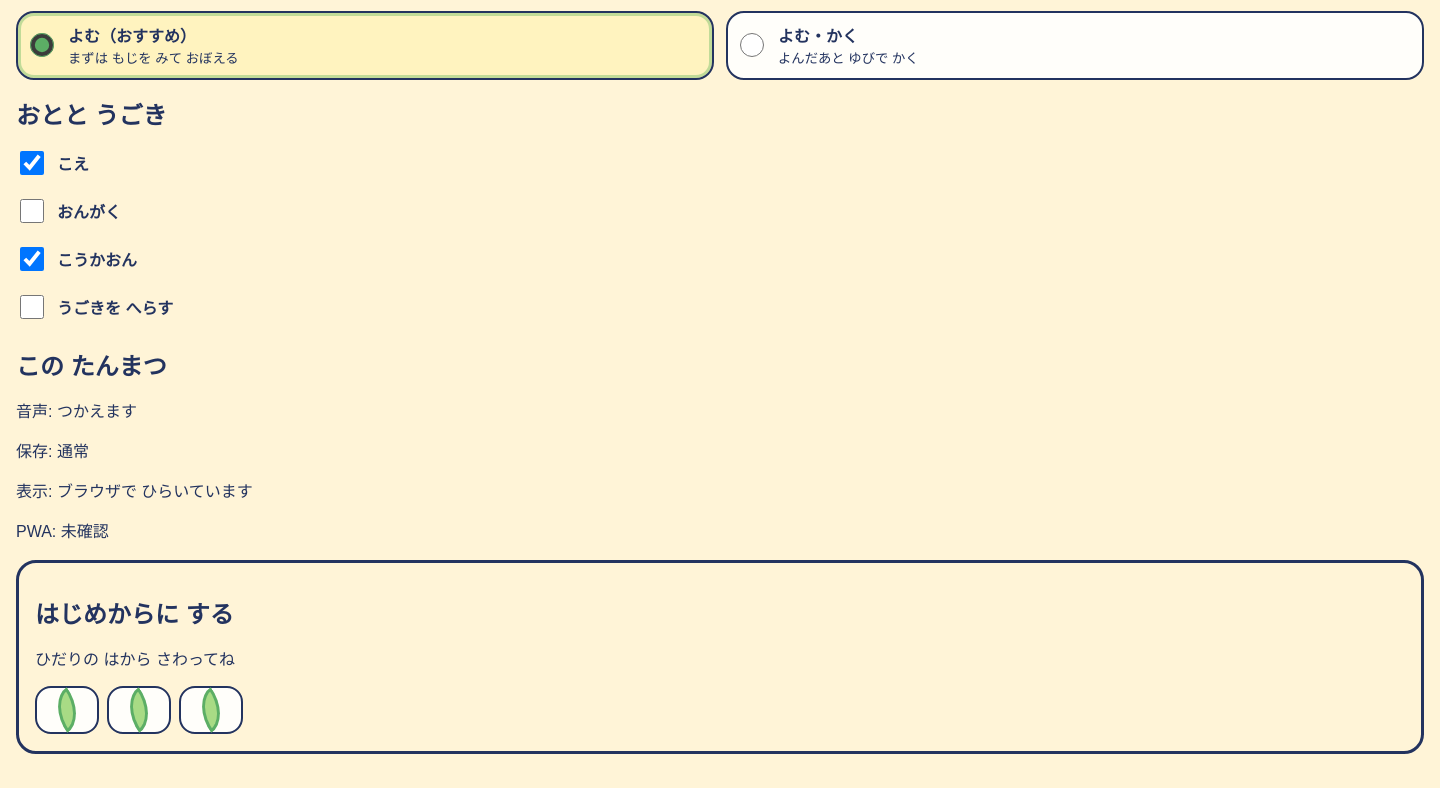
Test: ParentDashboard › StrictModeでもdeferred resetの失敗を表示し、成功後だけ葉を戻す
(page scrolled)
Click the button named "ひだりの は" at {"x": 67, "y": 710}, box [35, 686, 99, 734]
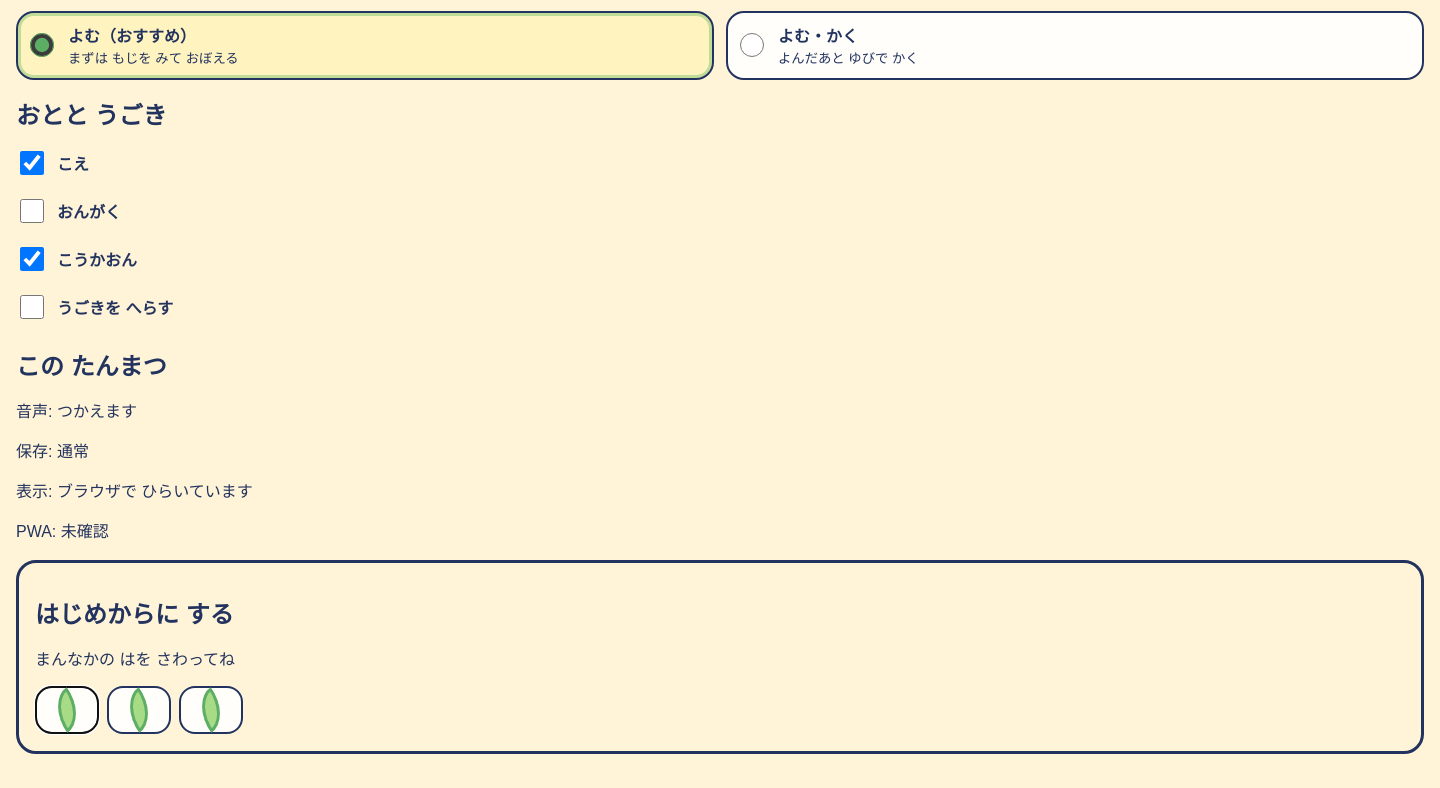
Click the button named "まんなかの は" at {"x": 139, "y": 710}, box [107, 686, 171, 734]
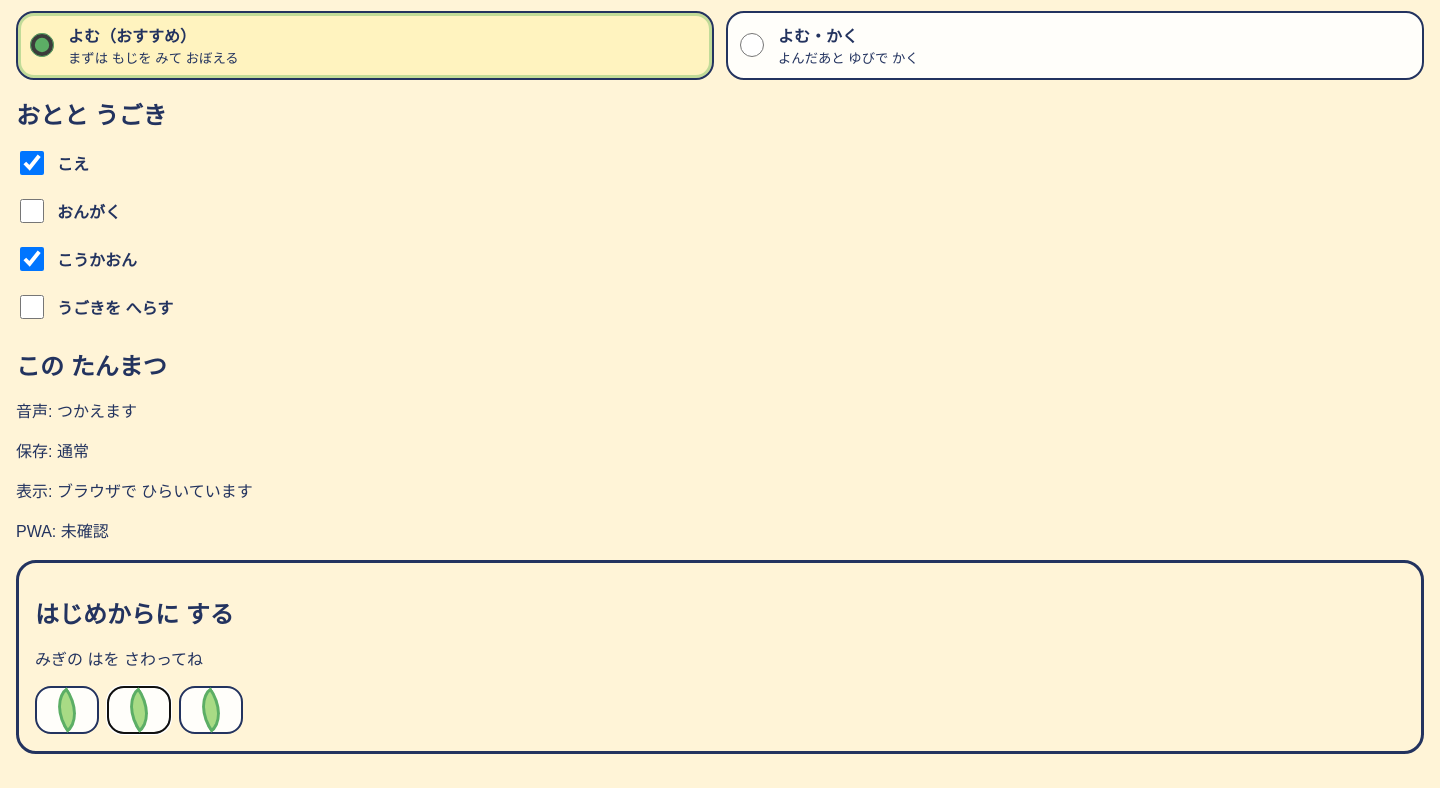
Click the button named "みぎの は" at {"x": 211, "y": 710}, box [179, 686, 243, 734]
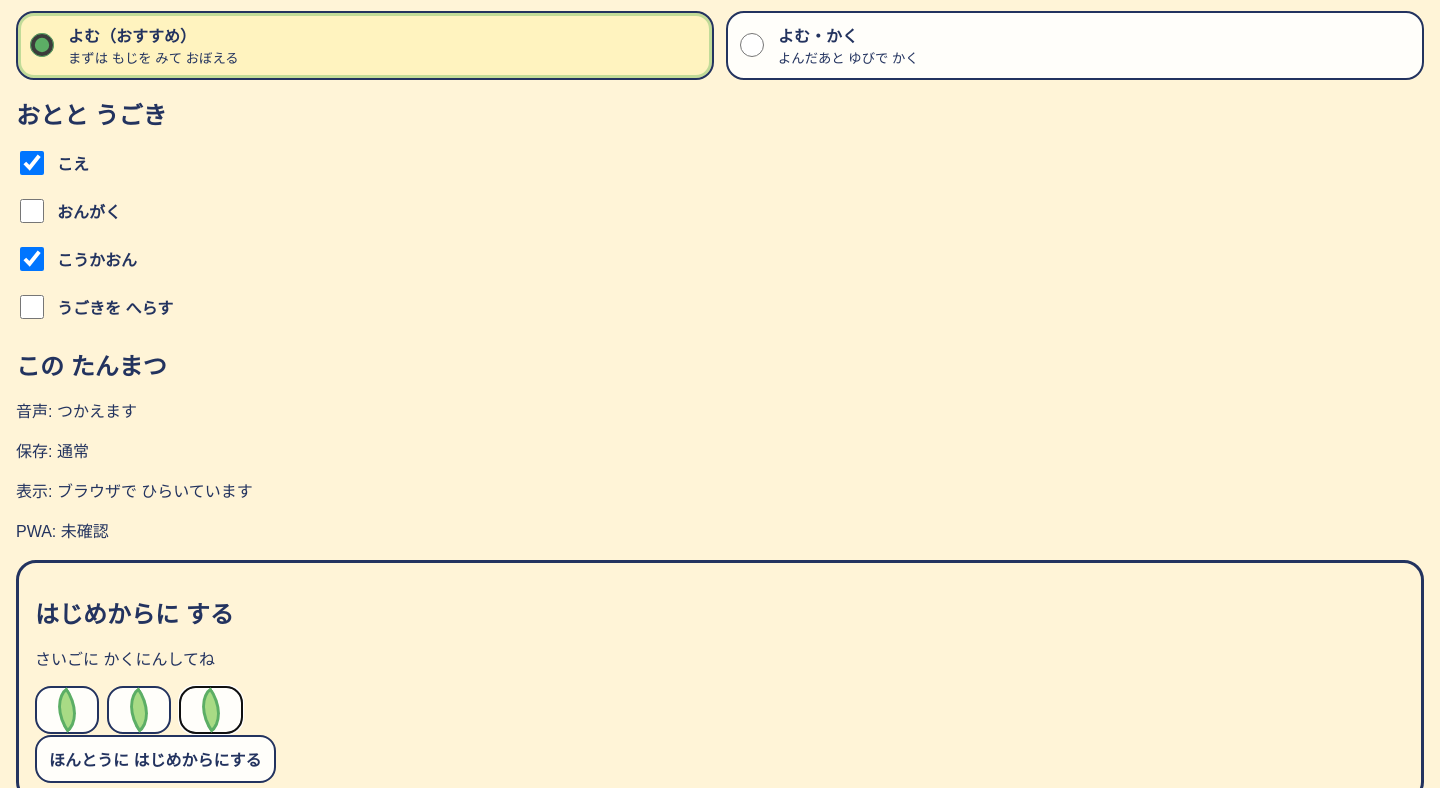
Click the button "ほんとうに はじめからにする" at {"x": 155, "y": 759}, box [35, 735, 276, 783]
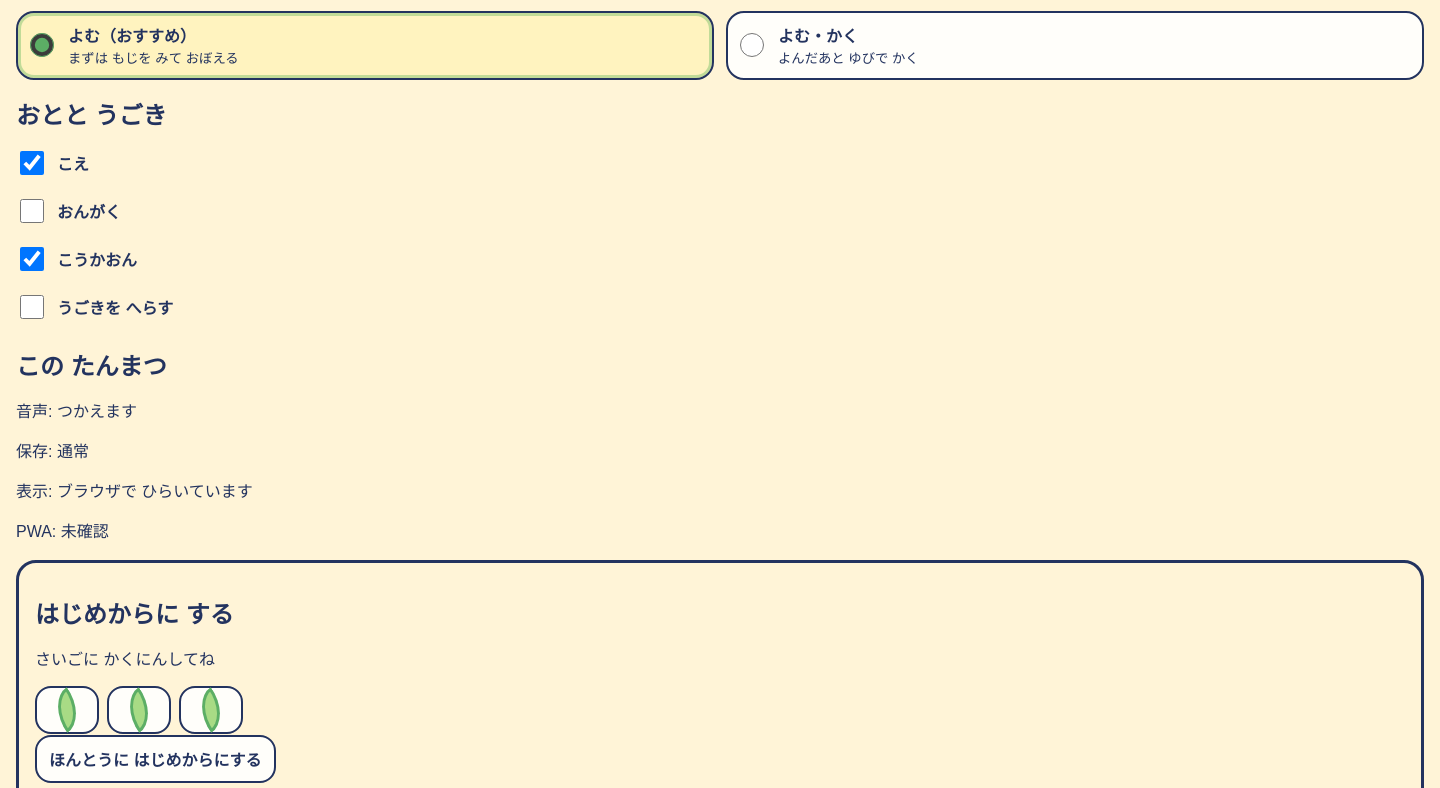
Click the button "ほんとうに はじめからにする" at {"x": 155, "y": 759}, box [35, 735, 276, 783]
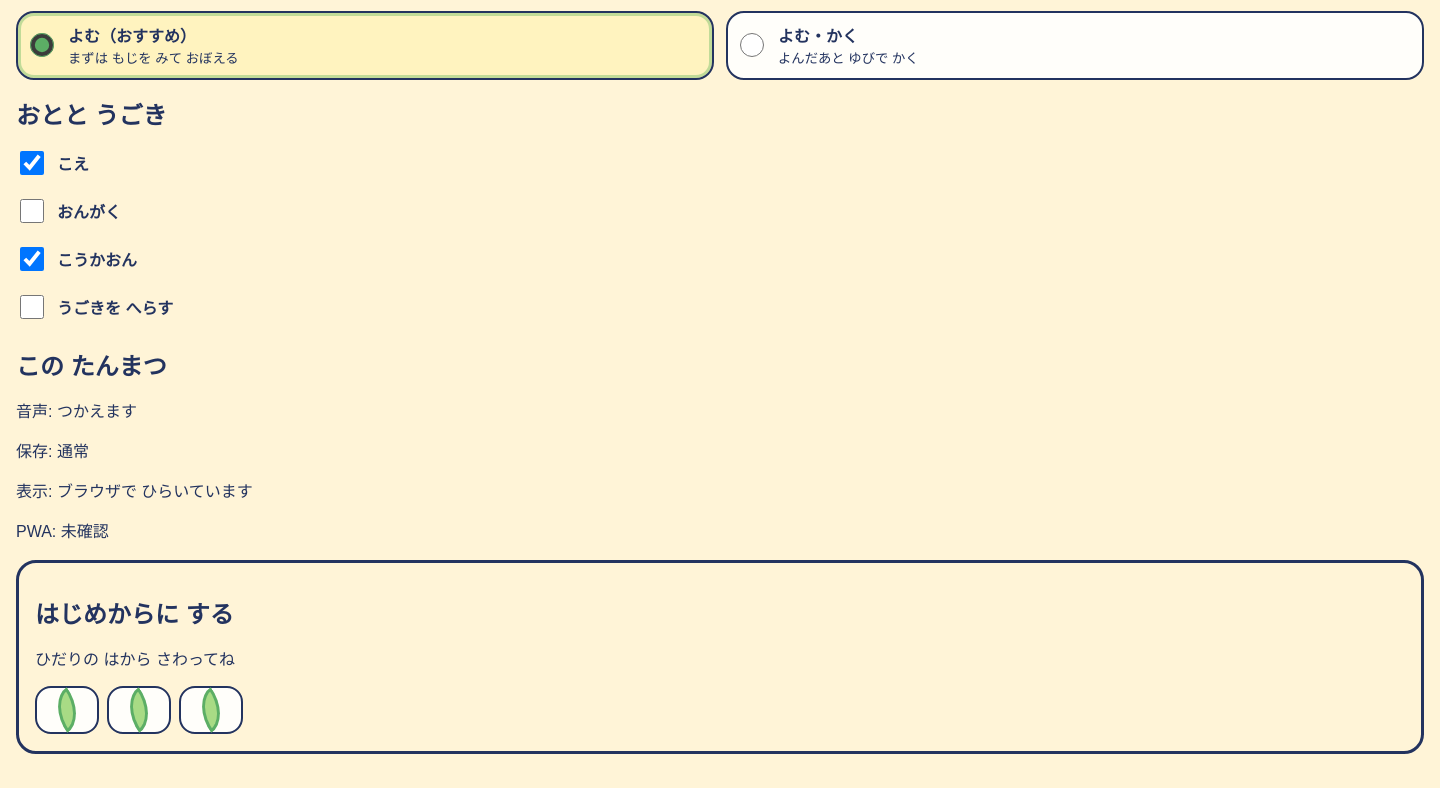
Expected: the text "ひだりの はから さわってね" is shown, [35, 651, 235, 668]
